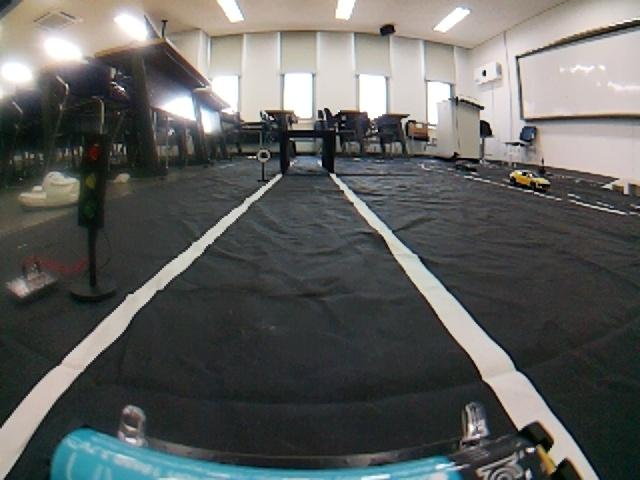red_light: (79, 131, 113, 230)
sign_tunnel: (257, 149, 272, 161)
straight: (0, 159, 640, 480)
